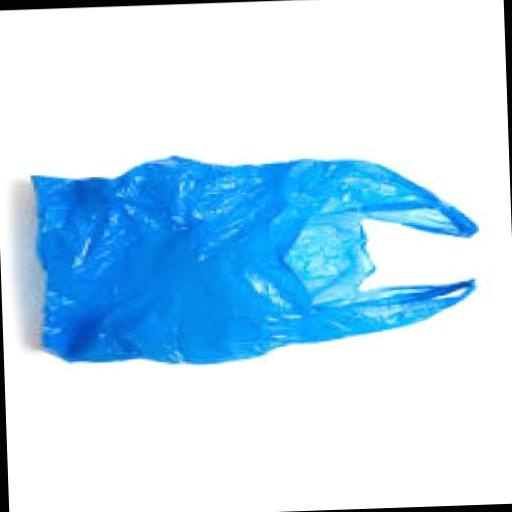plastic: (32, 142, 484, 364)
